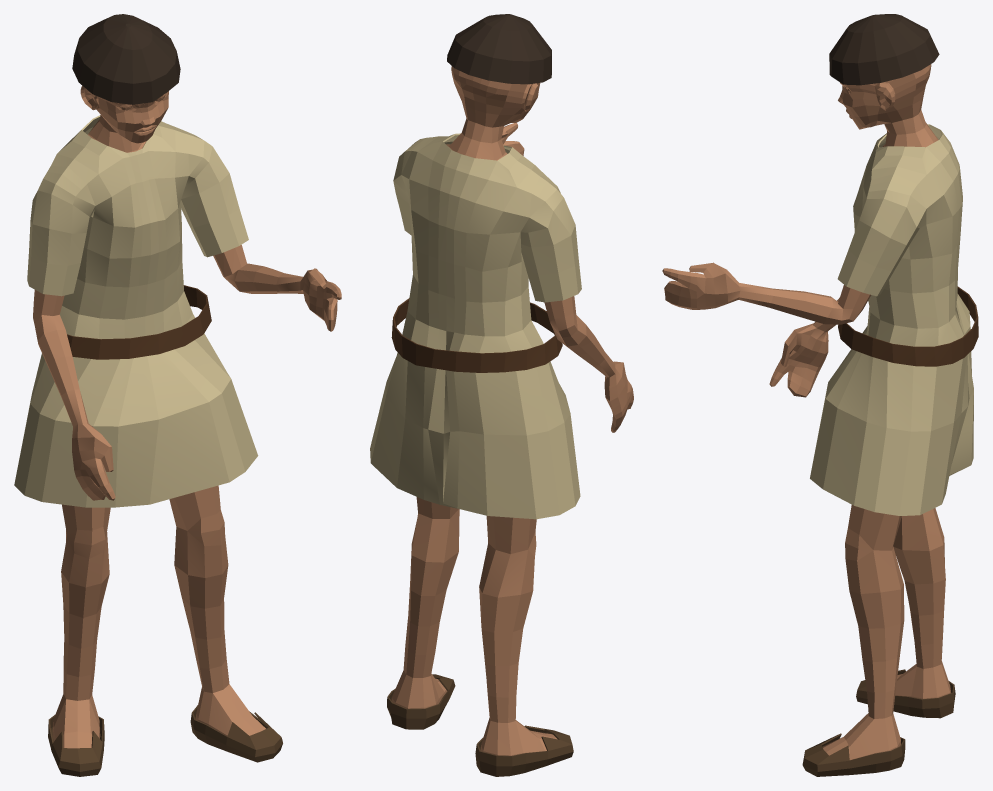
The model's file is citizen-idle-3.glb.
3 views of the same model, side by side, from view 1: azimuth 30°, elevation 25°; view 2: azimuth 150°, elevation 25°; view 3: azimuth 270°, elevation 25° (orthographic). The views are drawn at different scales.
Visible parts, largest first — view 1: Ambient_RomanTunic, Ambient_CharacterBase, Ambient_HairCap, Ambient_RomanSandals, Ambient_LeatherBelt; view 2: Ambient_RomanTunic, Ambient_CharacterBase, Ambient_HairCap, Ambient_LeatherBelt, Ambient_RomanSandals; view 3: Ambient_RomanTunic, Ambient_CharacterBase, Ambient_HairCap, Ambient_RomanSandals, Ambient_LeatherBelt.
Boxes of the visible parts, x1,y1,x2,y2 form: Ambient_RomanTunic: (14, 115, 258, 507); Ambient_CharacterBase: (33, 85, 341, 748); Ambient_HairCap: (72, 14, 180, 104); Ambient_RomanSandals: (48, 705, 282, 776); Ambient_LeatherBelt: (67, 285, 211, 359); Ambient_RomanTunic: (370, 133, 581, 519); Ambient_CharacterBase: (391, 66, 633, 755); Ambient_HairCap: (447, 14, 551, 84); Ambient_LeatherBelt: (391, 298, 562, 372); Ambient_RomanSandals: (387, 674, 573, 776); Ambient_RomanTunic: (810, 124, 973, 515); Ambient_CharacterBase: (662, 64, 950, 760); Ambient_HairCap: (829, 14, 939, 85); Ambient_RomanSandals: (802, 669, 955, 776); Ambient_LeatherBelt: (838, 286, 978, 366).
Size of the model in its own units: 0.5531 by 1.82 by 0.7408.
